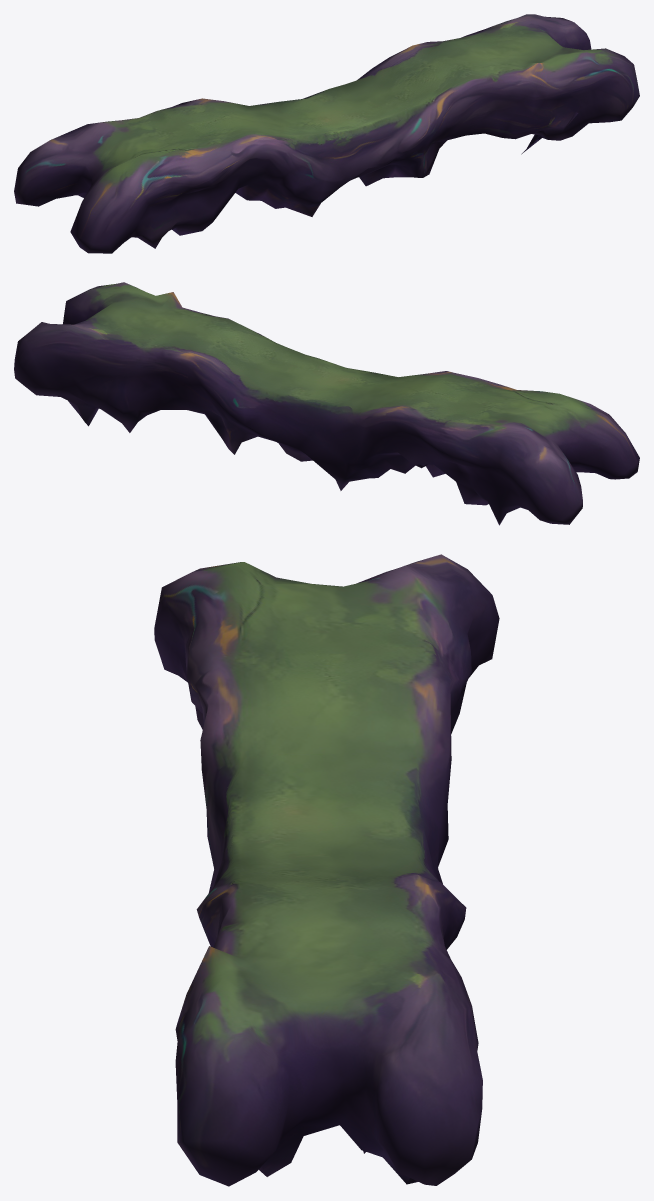
Rendered from env_root_bridge_6m_a.glb.
3 views of the same model, one above another, from view 1: azimuth 30°, elevation 25°; view 2: azimuth 150°, elevation 25°; view 3: azimuth 270°, elevation 25° (orthographic). The views are drawn at different scales.
Visible parts, largest first — view 1: tripo_node_f92f17ea-9510-44fc-8dbd-5e350c46aa0d; view 2: tripo_node_f92f17ea-9510-44fc-8dbd-5e350c46aa0d; view 3: tripo_node_f92f17ea-9510-44fc-8dbd-5e350c46aa0d.
Boxes of the visible parts, box(x1,y1,x2,y2) form: tripo_node_f92f17ea-9510-44fc-8dbd-5e350c46aa0d: box(14, 14, 639, 253); tripo_node_f92f17ea-9510-44fc-8dbd-5e350c46aa0d: box(14, 282, 639, 525); tripo_node_f92f17ea-9510-44fc-8dbd-5e350c46aa0d: box(154, 554, 499, 1186).
Bounding box in the file's own units: 1 × 0.1898 × 0.2627.
1 material, 1 textured.
